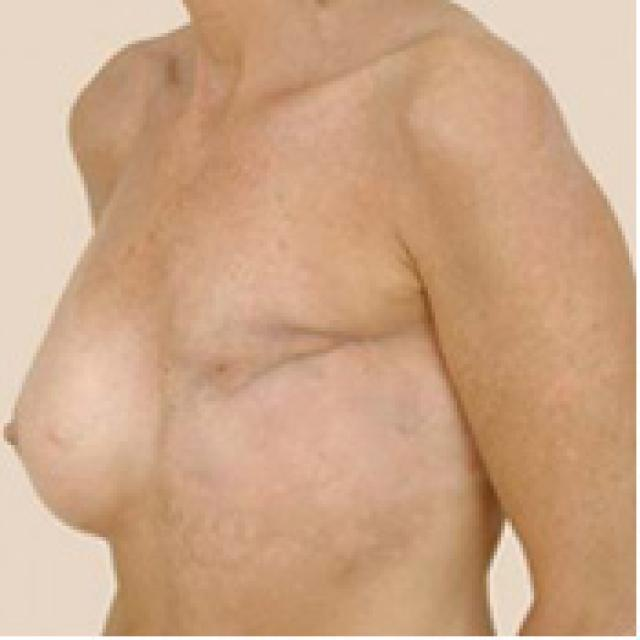Seno herido: (174, 229, 446, 451)
Seno ileso: (0, 230, 169, 572)
